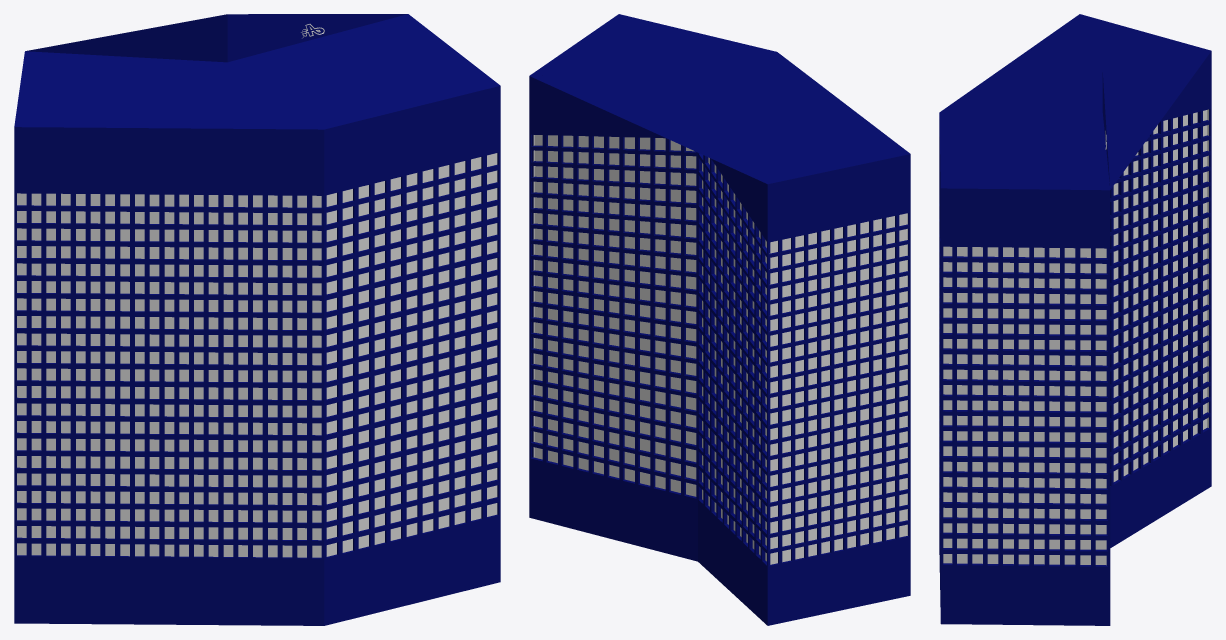
File: Archway@WestInsbury.fbx
The picture shows the model from 3 angles, left to right: view 1: azimuth 30°, elevation 25°; view 2: azimuth 150°, elevation 25°; view 3: azimuth 270°, elevation 25°; orthographic projection. The views are drawn at different scales.
Parts seen in each view (by area): view 1: TheArch; view 2: TheArch; view 3: TheArch.
Boxes of the visible parts, x1,y1,x2,y2 form: TheArch: (14, 14, 500, 625); TheArch: (529, 14, 910, 625); TheArch: (939, 14, 1211, 625).
Size of the model in its own units: 6942 by 8900 by 4532.
